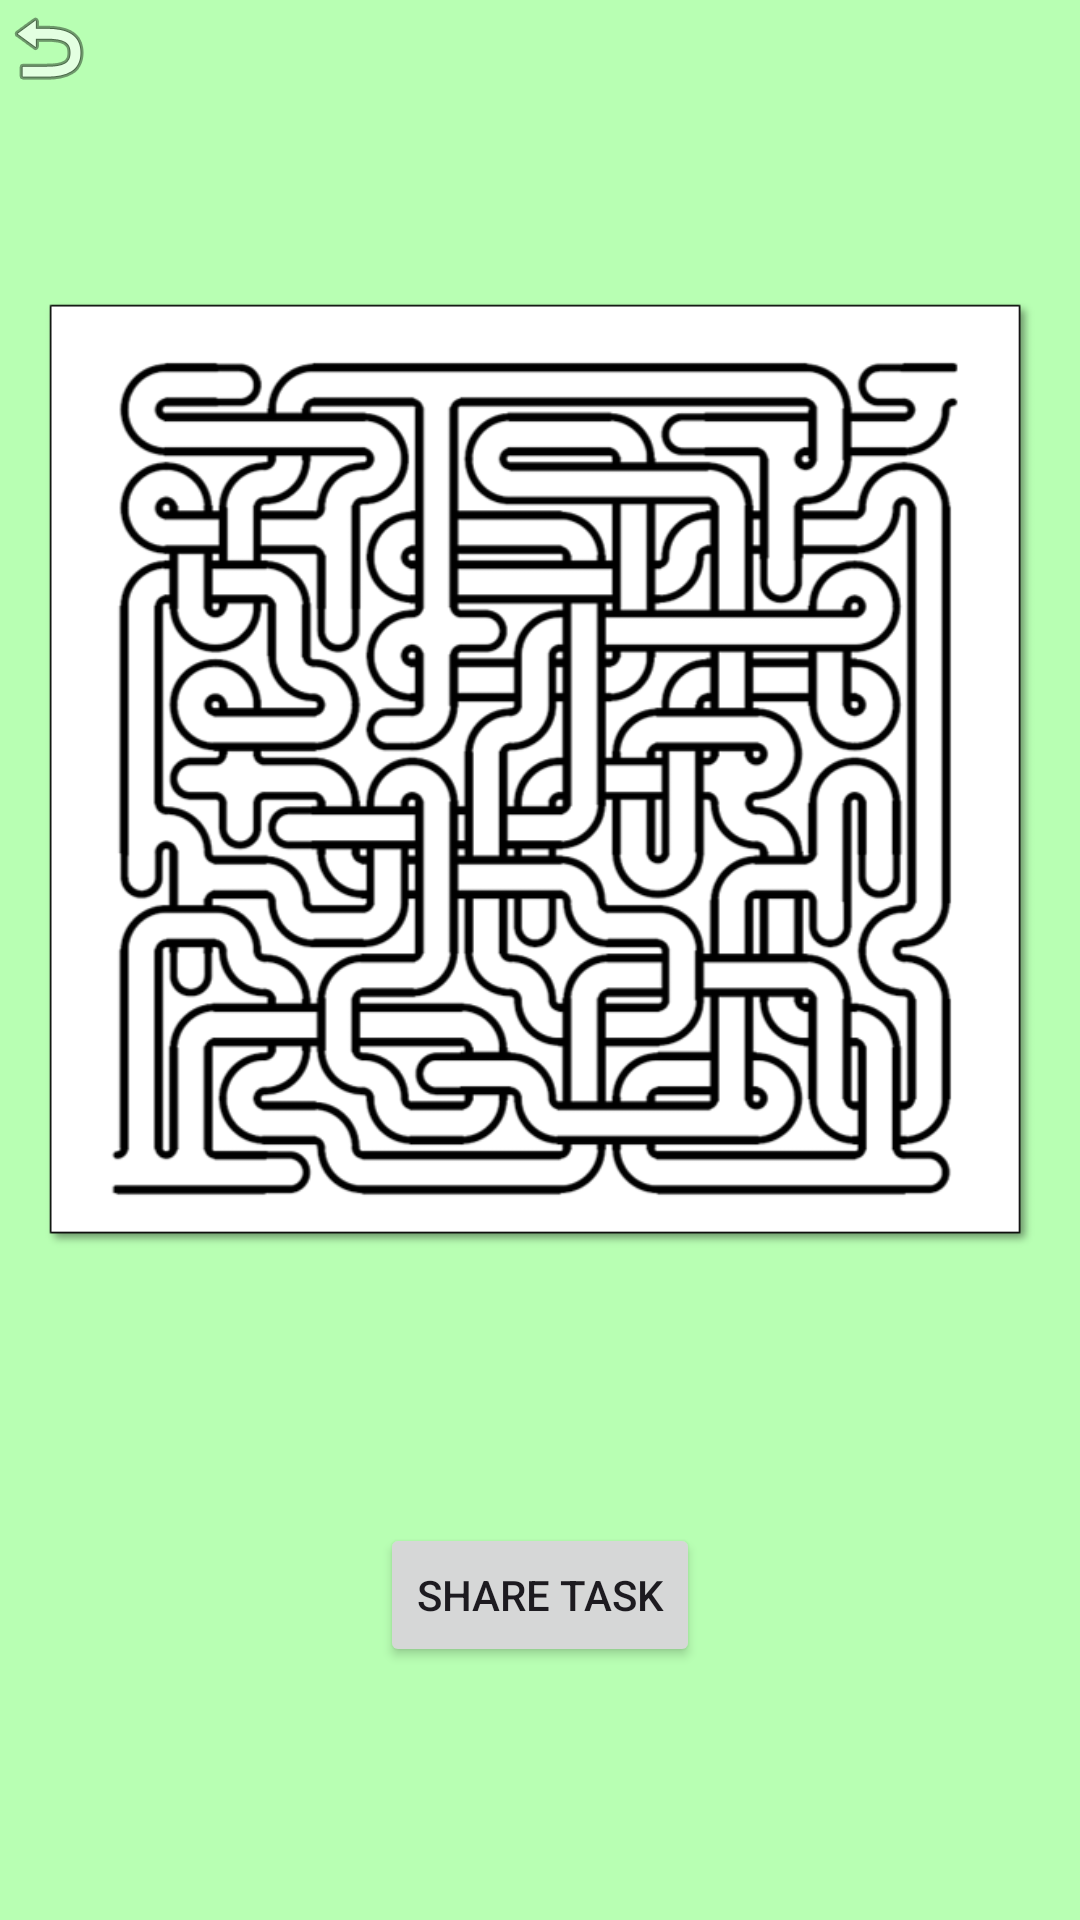

Icon click points for this 1080px x 1920px phone screenshot, format (x,y):
revert: (49,48)
